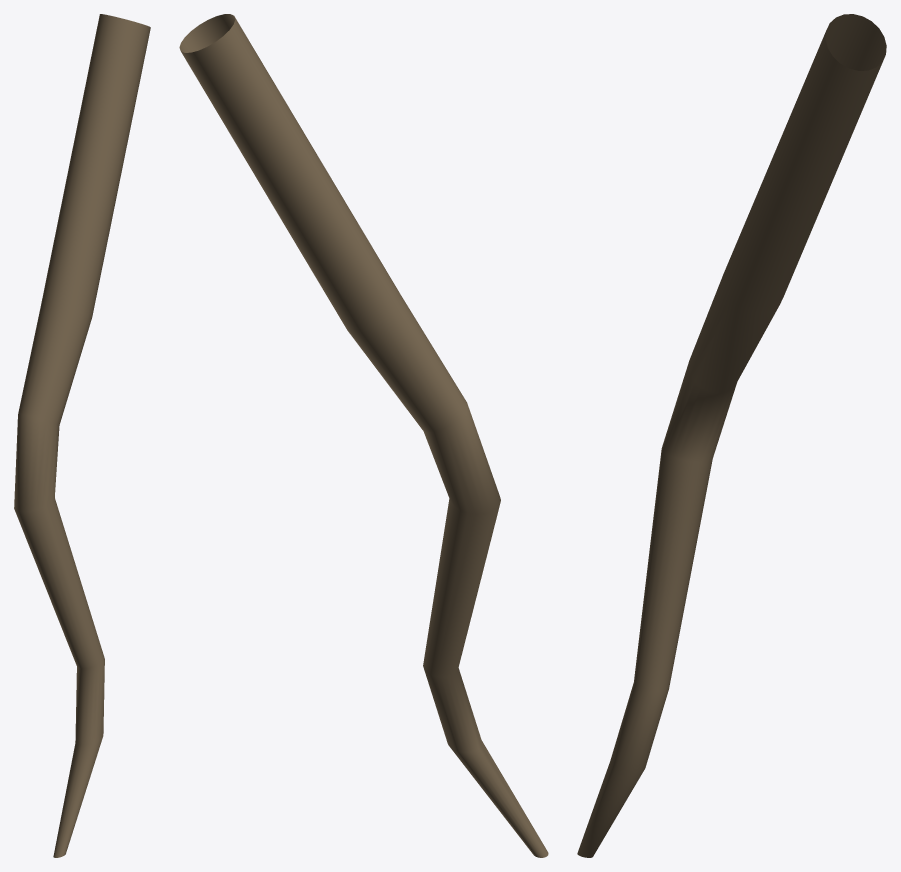
File: branch.fbx
3 views of the same model, side by side, from view 1: azimuth 30°, elevation 25°; view 2: azimuth 150°, elevation 25°; view 3: azimuth 270°, elevation 25° (orthographic). The views are drawn at different scales.
Visible parts, largest first — view 1: branch1; view 2: branch1; view 3: branch1.
Part boxes in pixels (x1,y1,x2,y2): branch1: (14, 14, 150, 857); branch1: (179, 14, 548, 857); branch1: (577, 14, 886, 857).
Bounding box in the file's own units: 0.00395 × 0.0139 × 0.00416.
